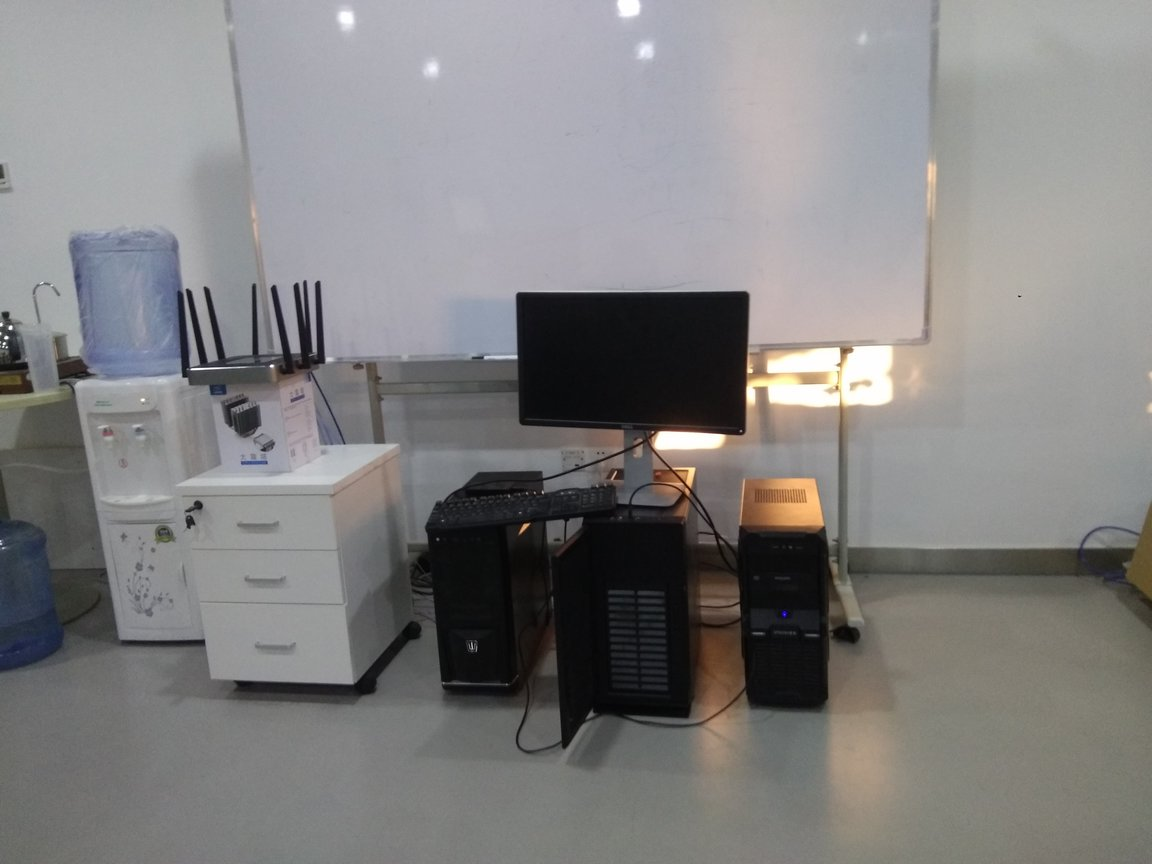computer: (554, 463, 710, 759), (434, 469, 553, 719), (736, 478, 831, 715)
drawer chest: (177, 444, 426, 704)
monitor: (513, 287, 752, 512)
scuttlebutt: (67, 220, 192, 392), (1, 516, 66, 682)
water dispenser: (70, 370, 233, 658)
